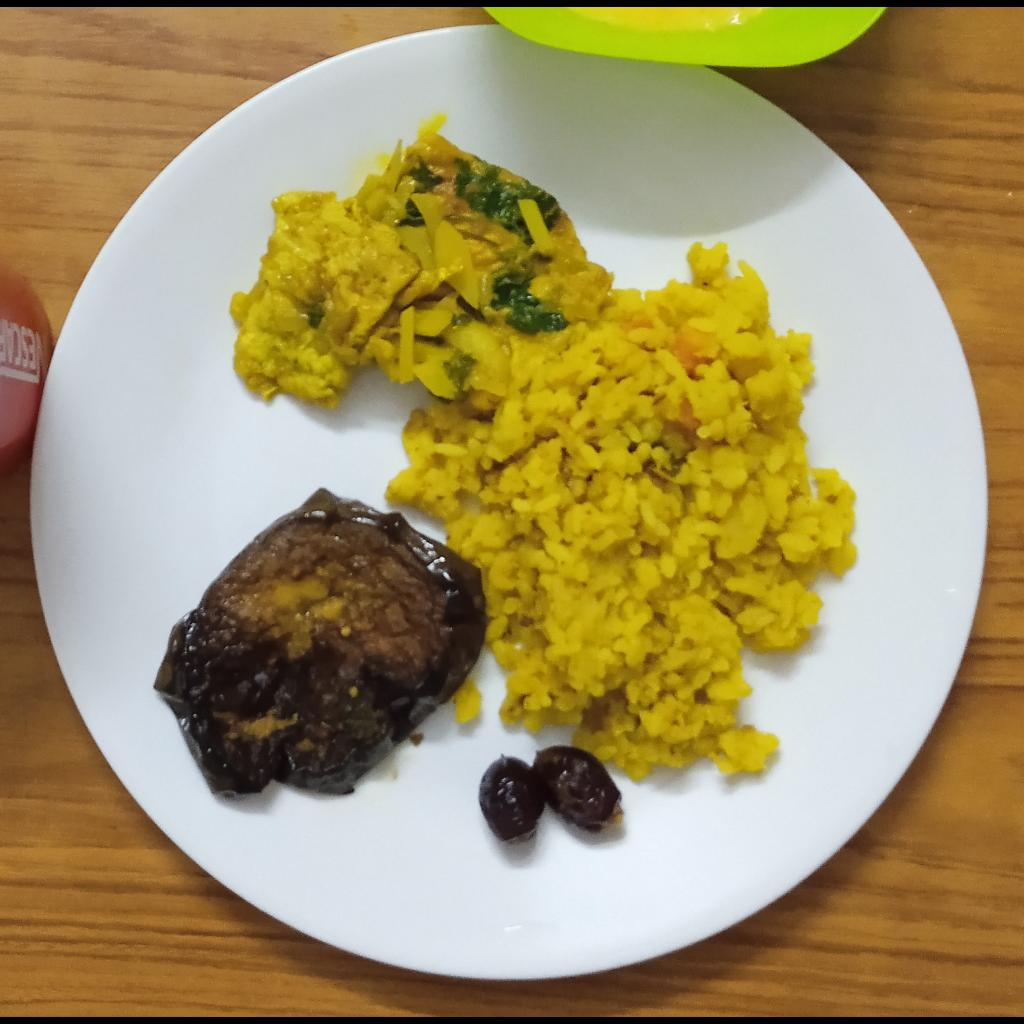begun-vaji: (154, 486, 483, 801)
dates: (477, 747, 624, 846)
egg-poached: (231, 131, 617, 410)
khichuri: (389, 239, 861, 784)
